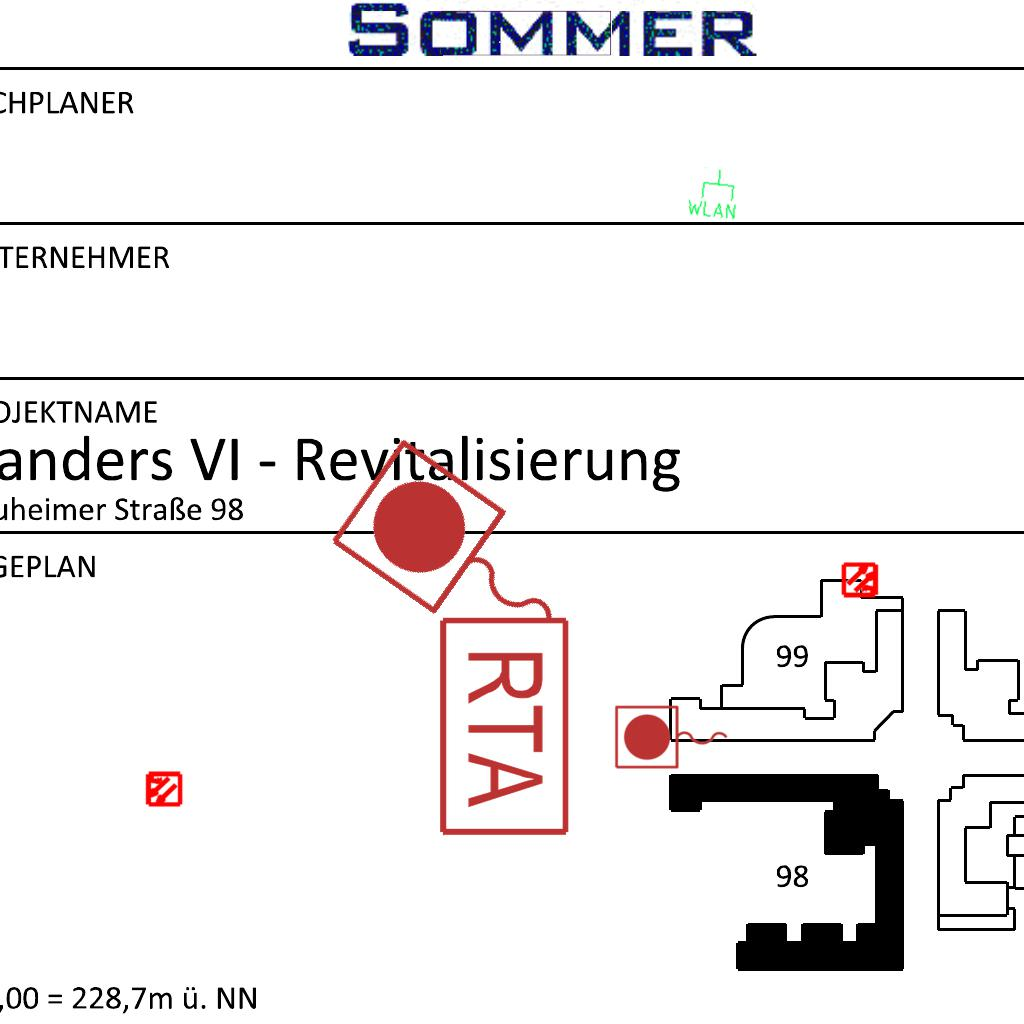OT_Multisensormelder_(Kombination_RMO_WMD): (135, 761, 191, 817), (833, 552, 889, 608)
Ruf-und_Abstelltaster: (435, 610, 573, 838)
WLAN: (684, 164, 742, 222)
Zugtaster: (317, 428, 601, 686), (611, 702, 733, 774)
